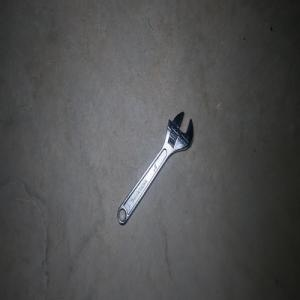Wrench: (117, 111, 193, 225)
